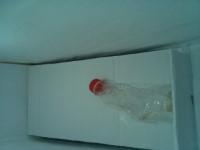bottle: (86, 77, 172, 123)
